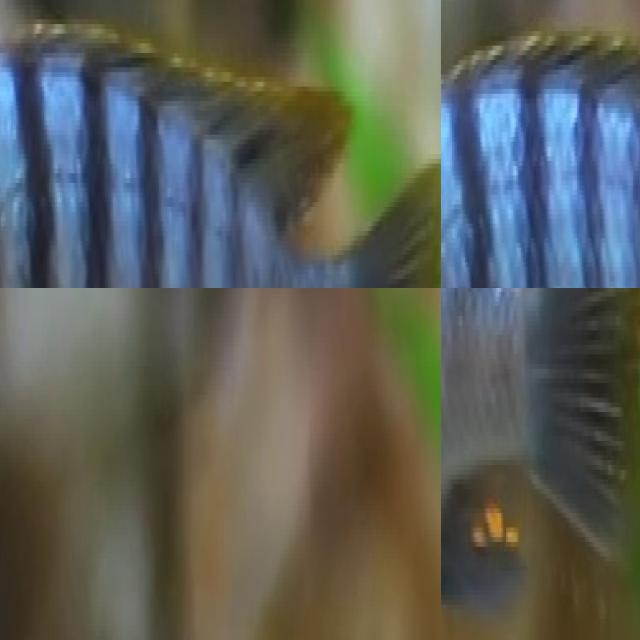fish: (0, 0, 441, 288), (441, 288, 640, 640)
